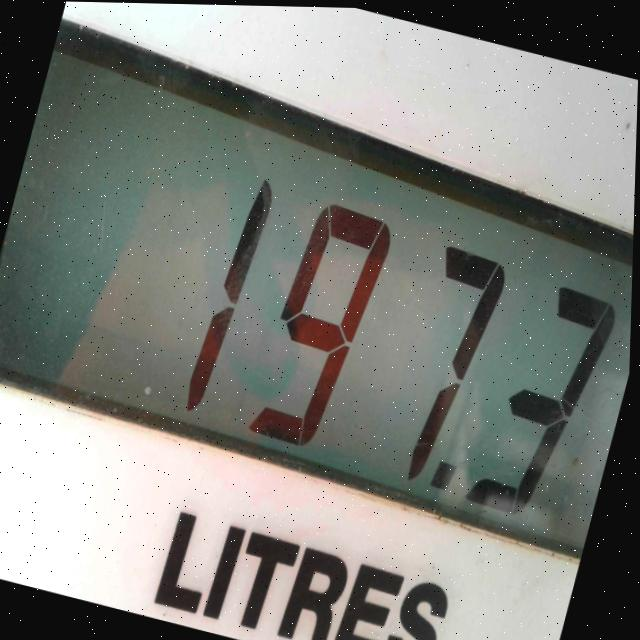.: (421, 433, 469, 502)
1: (175, 157, 294, 424)
3: (462, 252, 627, 539)
7: (394, 234, 506, 481)
9: (240, 180, 401, 463)
